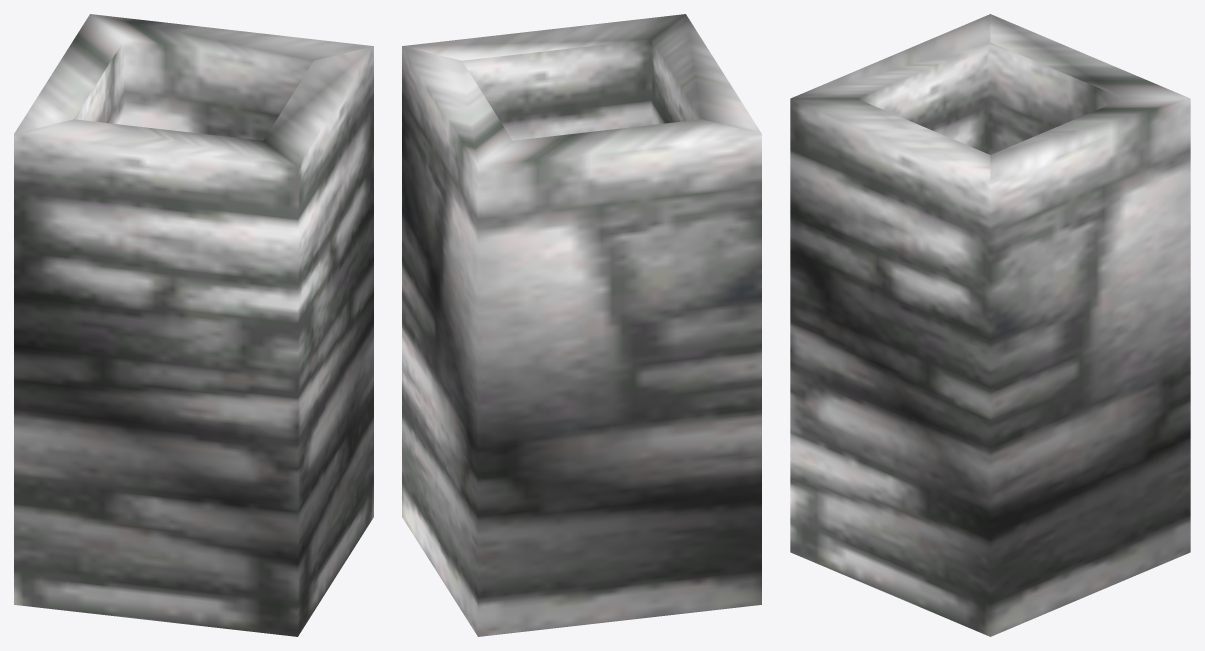
The model's file is INST_HTOWN_CHIMNEY.fbx.
The picture shows the model from 3 angles, left to right: view 1: azimuth 30°, elevation 25°; view 2: azimuth 150°, elevation 25°; view 3: azimuth 270°, elevation 25°; orthographic projection. The views are drawn at different scales.
Parts seen in each view (by area): view 1: INST_HTOWN_CHIMNEY; view 2: INST_HTOWN_CHIMNEY; view 3: INST_HTOWN_CHIMNEY.
Boxes of the visible parts, x1,y1,x2,y2 form: INST_HTOWN_CHIMNEY: [14, 14, 373, 636]; INST_HTOWN_CHIMNEY: [402, 14, 761, 636]; INST_HTOWN_CHIMNEY: [790, 14, 1190, 636].
Size of the model in its own units: 8400 by 10500 by 8400.
Materials: 1 (1 with a texture image).
